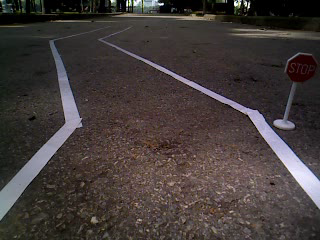Stop: (284, 51, 320, 85)
